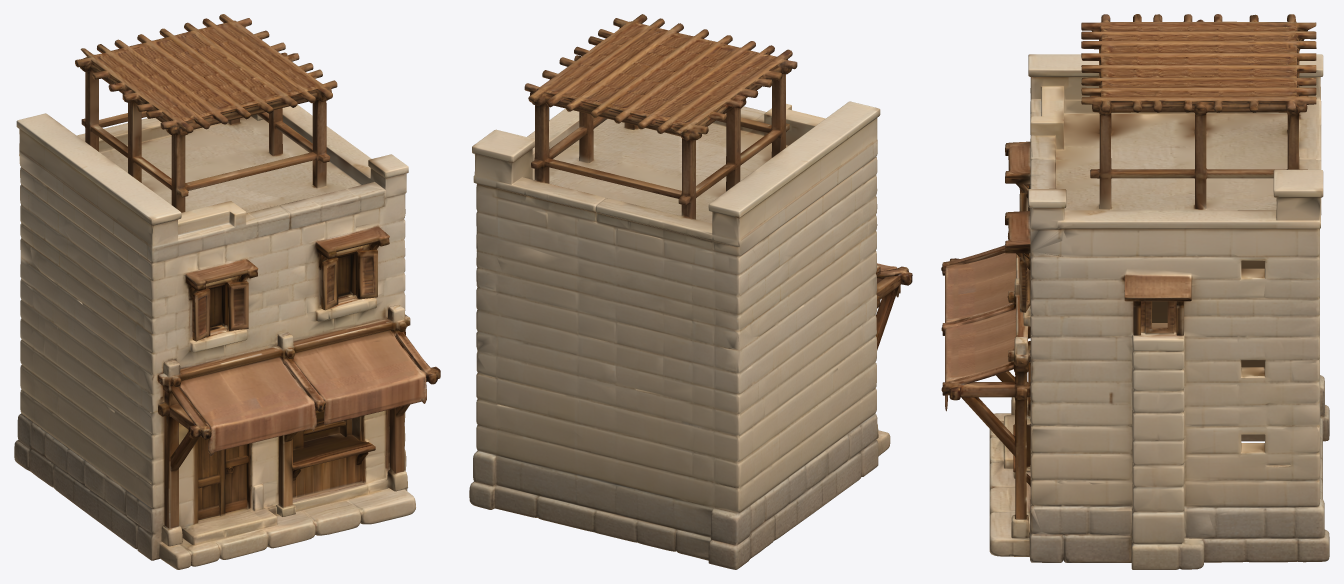
Rendered from Jerusalem_House_compact_2k.glb.
3 views of the same model, side by side, from view 1: azimuth 30°, elevation 25°; view 2: azimuth 150°, elevation 25°; view 3: azimuth 270°, elevation 25° (orthographic). The views are drawn at different scales.
Parts seen in each view (by area): view 1: Jerusalem_House; view 2: Jerusalem_House; view 3: Jerusalem_House.
Part boxes in pixels (x1=…): Jerusalem_House: x1=14, y1=14, x2=440, y2=569; Jerusalem_House: x1=469, y1=14, x2=912, y2=569; Jerusalem_House: x1=941, y1=14, x2=1329, y2=569.
Bounding box in the file's own units: 6.34 × 8.8 × 7.07.
1 material, 1 textured.
